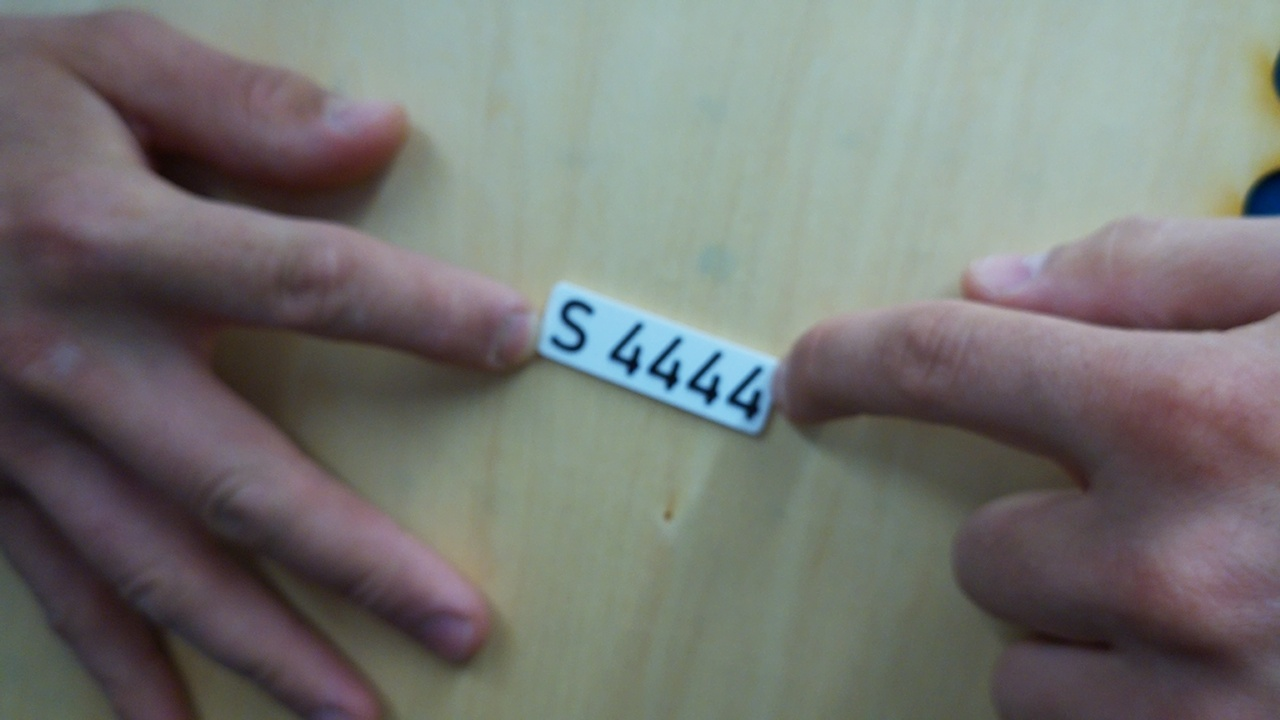license_plate: (535, 279, 785, 439)
